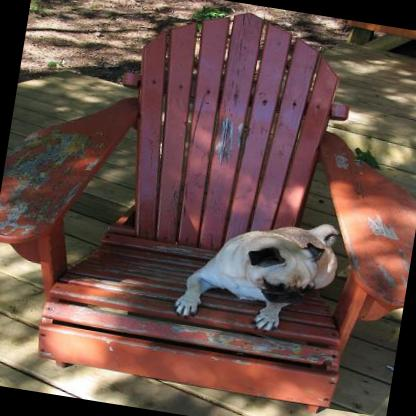pug: (170, 201, 342, 341)
